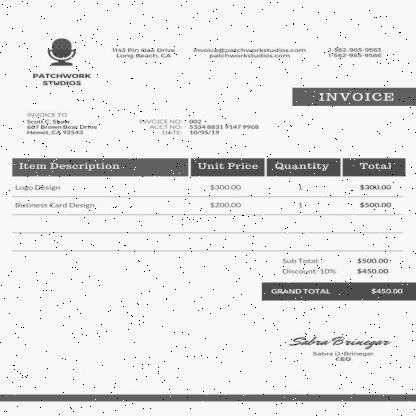Paragraph: (132, 116, 262, 136), (278, 255, 394, 277), (21, 110, 101, 138), (190, 46, 310, 60), (28, 70, 94, 90), (312, 90, 398, 104), (107, 46, 180, 60), (323, 44, 385, 60), (309, 350, 379, 364)
Table: (13, 158, 405, 252), (263, 284, 412, 298)
